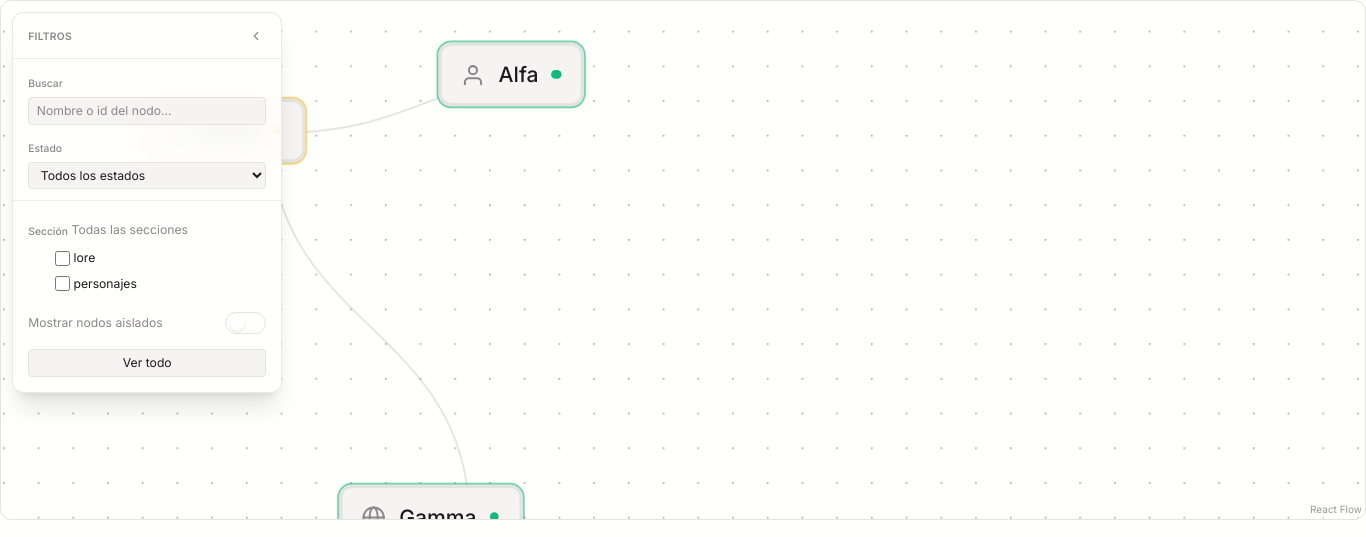
Test: GraphView › hides orphan nodes by default and reveals them with the toggle
This screenshot has width=1366, height=537.
Expected: the text "Epsilon" is not shown
Click the switch named "Mostrar nodos aislados": (246, 323) [225,312,266,334]
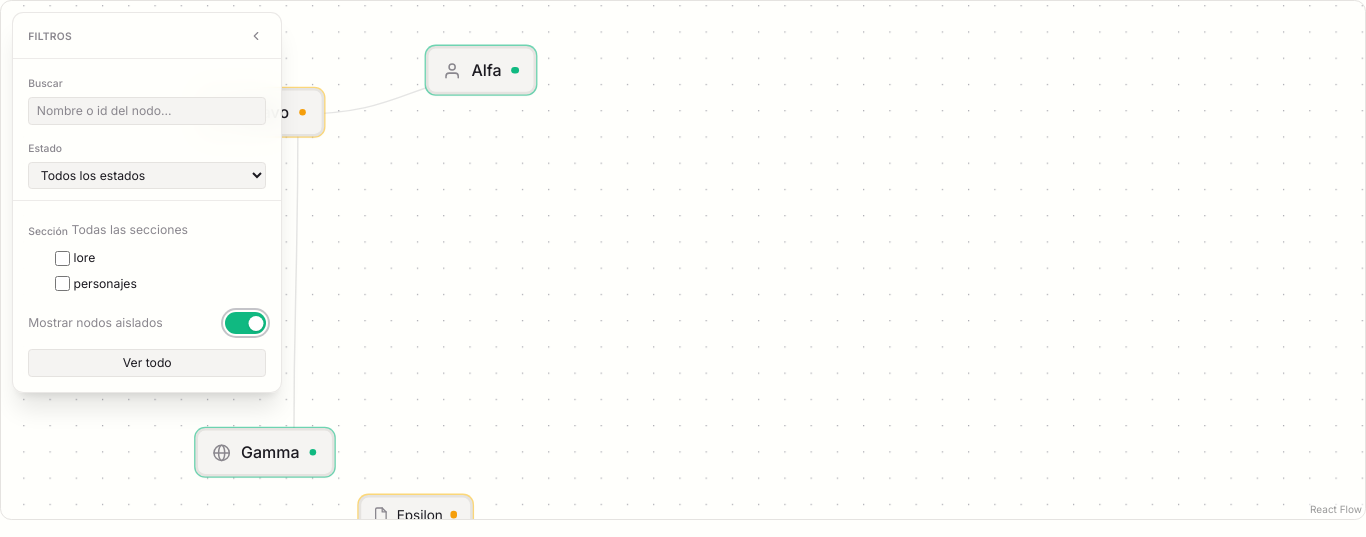
Expected: the text "Epsilon" is shown, [397,505,443,519]
